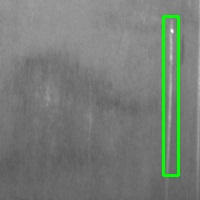scratches: (163, 16, 178, 175)
